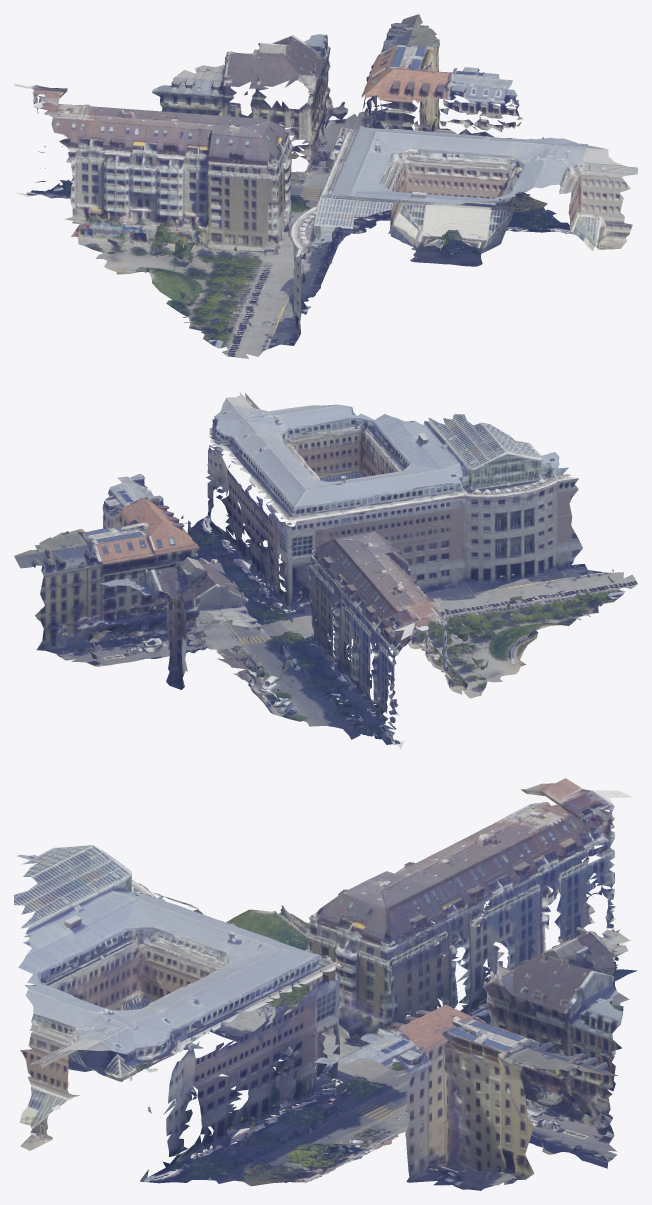
The picture shows the model from 3 angles, top to bottom: view 1: azimuth 30°, elevation 25°; view 2: azimuth 150°, elevation 25°; view 3: azimuth 270°, elevation 25°; orthographic projection. The views are drawn at different scales.
Bounding box in the file's own units: 107 × 32.51 × 109.
Materials: 1 (1 with a texture image).
